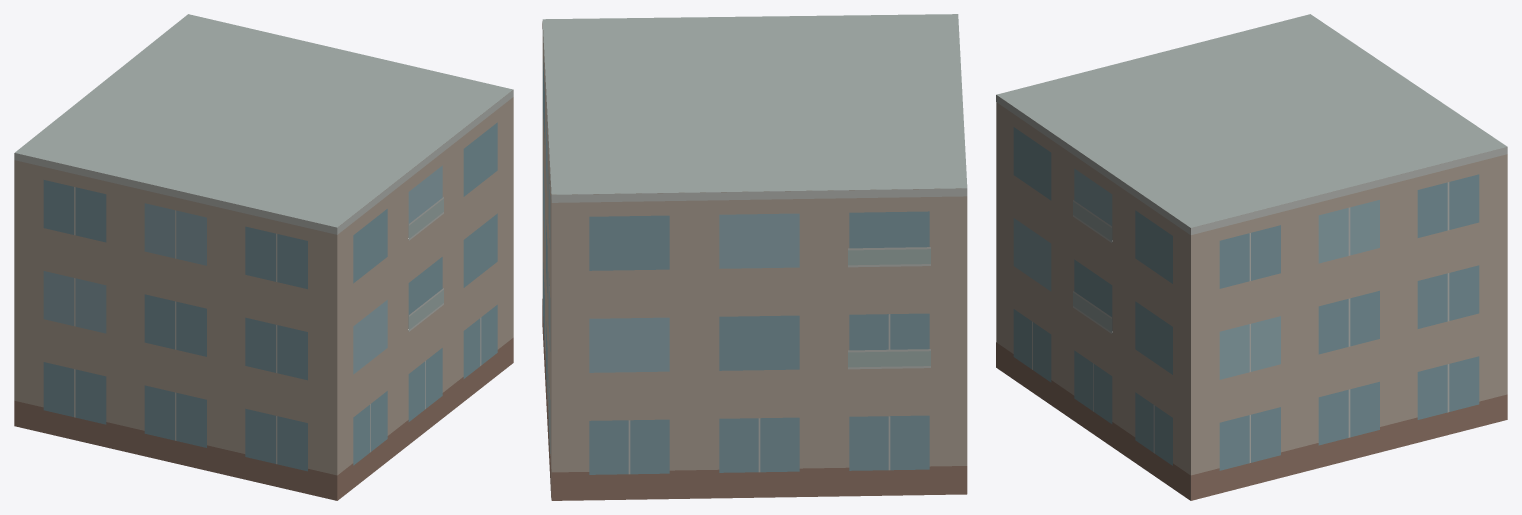
File: survey-upis-32751853.glb
3 views of the same model, side by side, from view 1: azimuth 30°, elevation 25°; view 2: azimuth 150°, elevation 25°; view 3: azimuth 270°, elevation 25° (orthographic). The views are drawn at different scales.
Visible parts, largest first — view 1: survey-upis-32751853.tmp; view 2: survey-upis-32751853.tmp; view 3: survey-upis-32751853.tmp.
Boxes of the visible parts, <box> form: survey-upis-32751853.tmp: <box>14,14,513,500</box>; survey-upis-32751853.tmp: <box>542,14,967,500</box>; survey-upis-32751853.tmp: <box>996,14,1507,500</box>.
Size of the model in its own units: 15.4 by 9.15 by 15.55.
